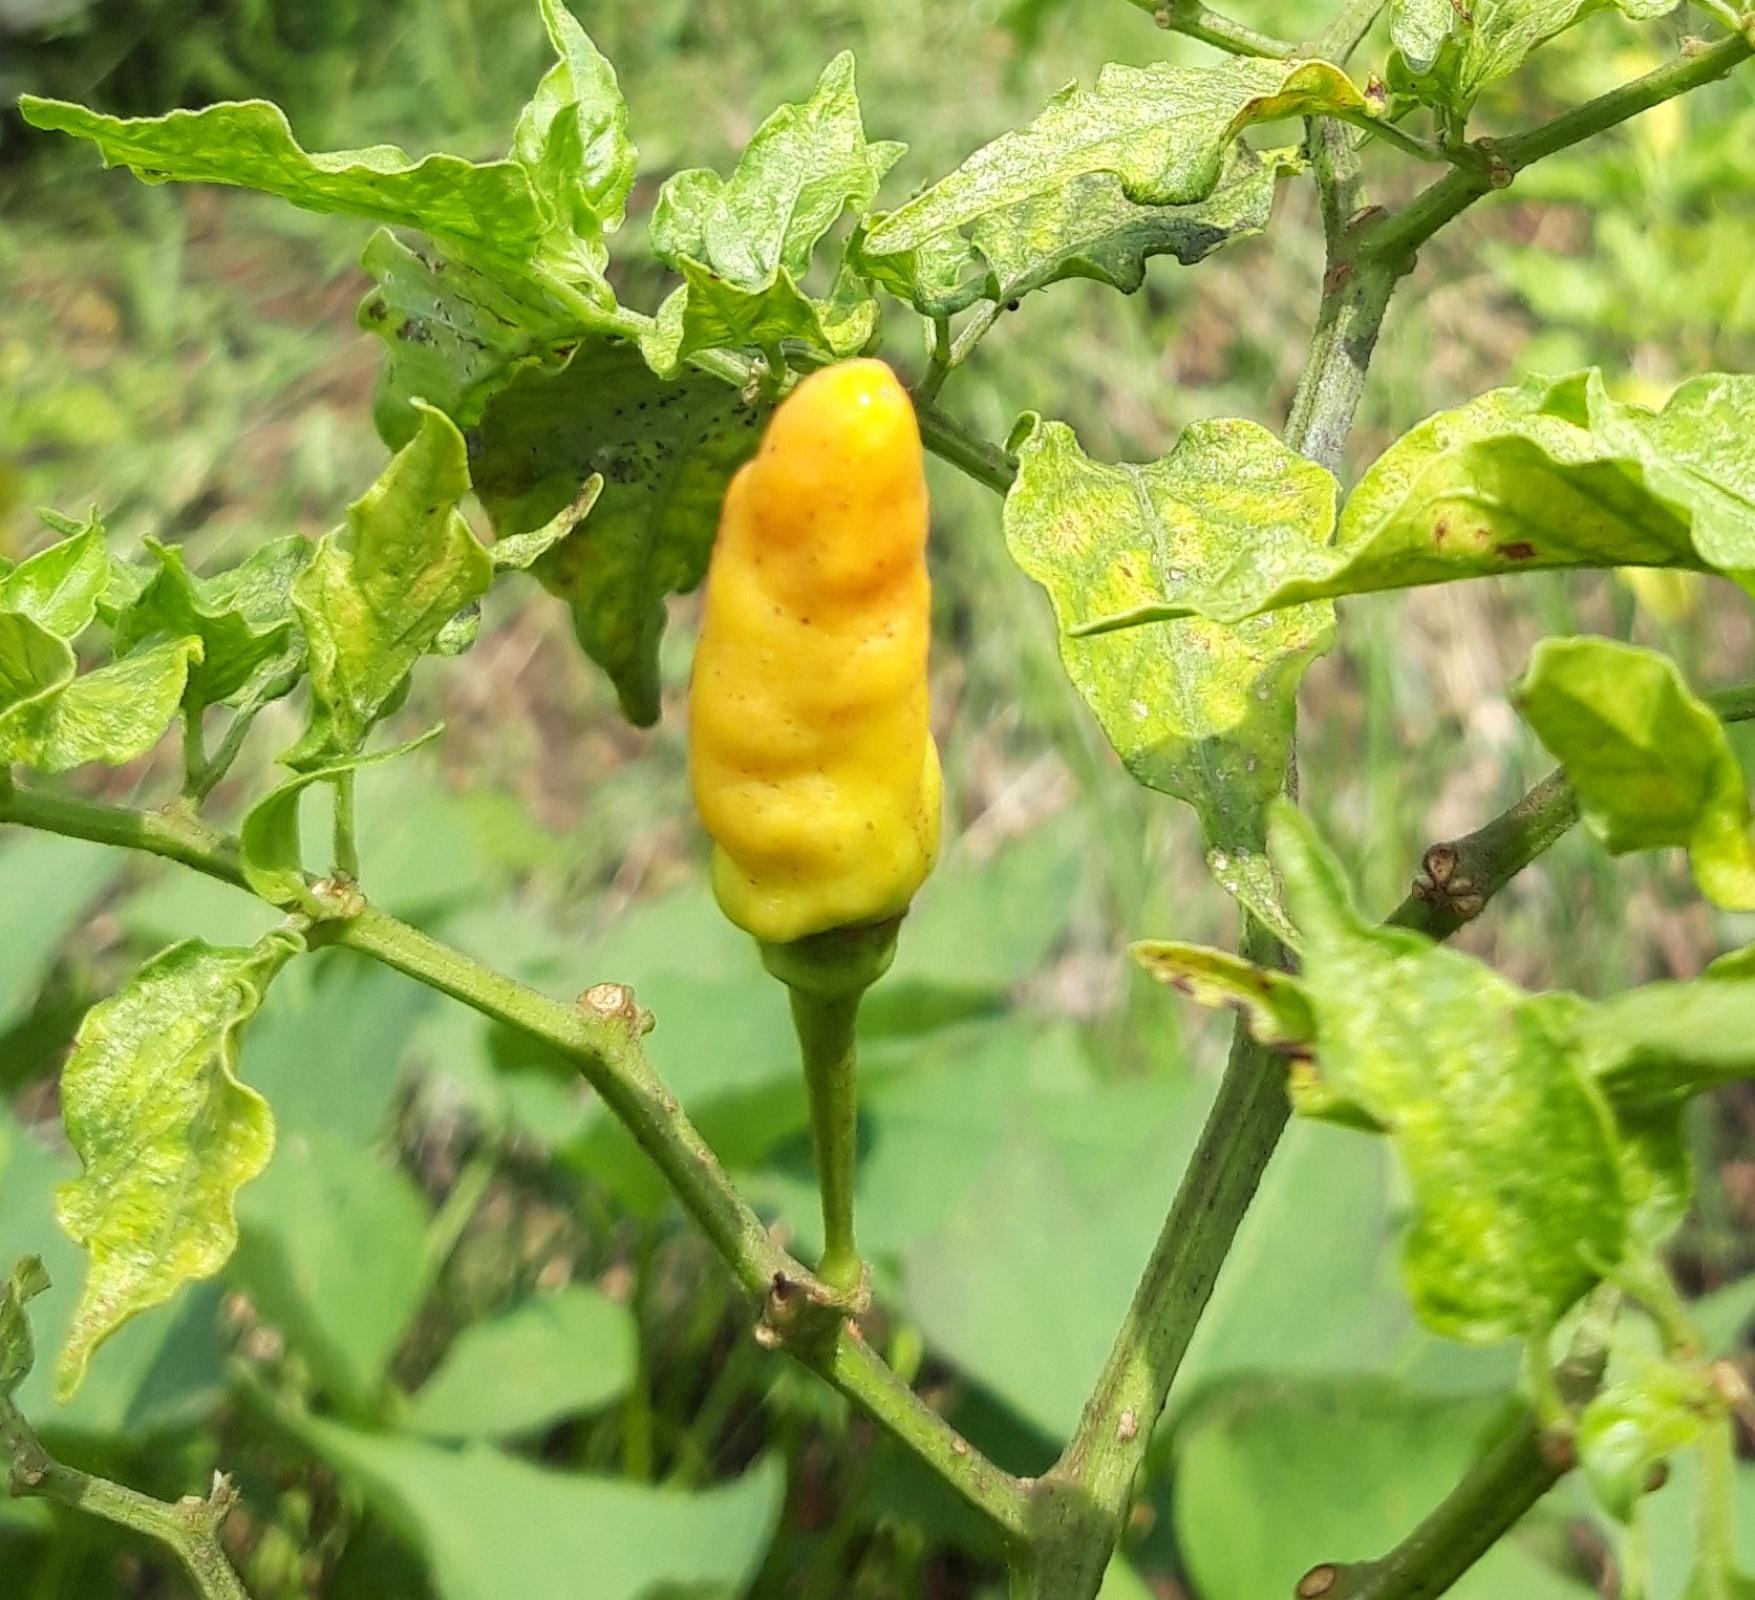cabai_normal: (691, 356, 943, 947)
